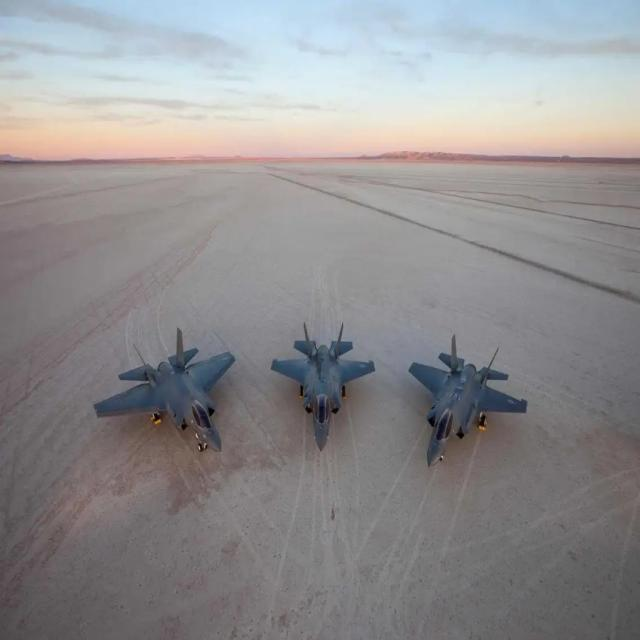MIL_Plane: (92, 327, 235, 452), (408, 334, 527, 467), (270, 321, 376, 452)
